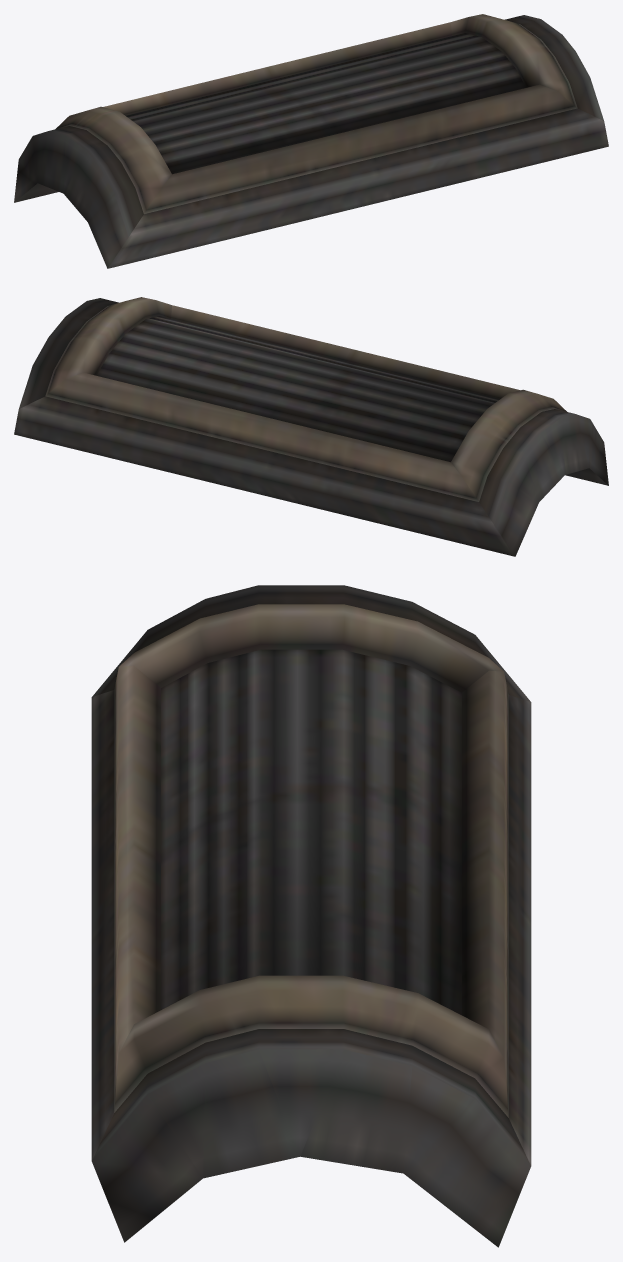
The model's file is detail_lab_vent.dae.
3 renders of one model, top to bottom at view 1: azimuth 30°, elevation 25°; view 2: azimuth 150°, elevation 25°; view 3: azimuth 270°, elevation 25°, orthographic. The views are drawn at different scales.
Parts seen in each view (by area): view 1: polySurface4; view 2: polySurface4; view 3: polySurface4.
Part boxes in pixels (x1,y1,x2,y2): polySurface4: (14, 14, 608, 268); polySurface4: (14, 297, 608, 556); polySurface4: (91, 585, 531, 1247).
Size of the model in its own units: 0.3612 by 0.0711 by 0.1371.
